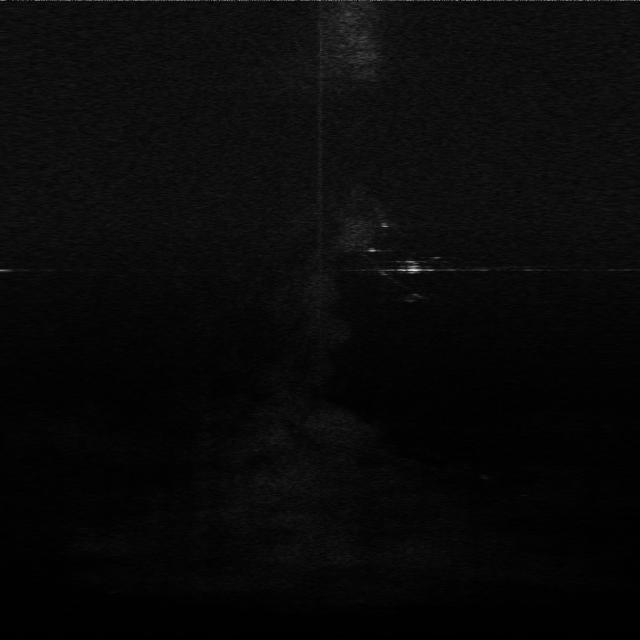rov: (398, 257, 424, 275)
